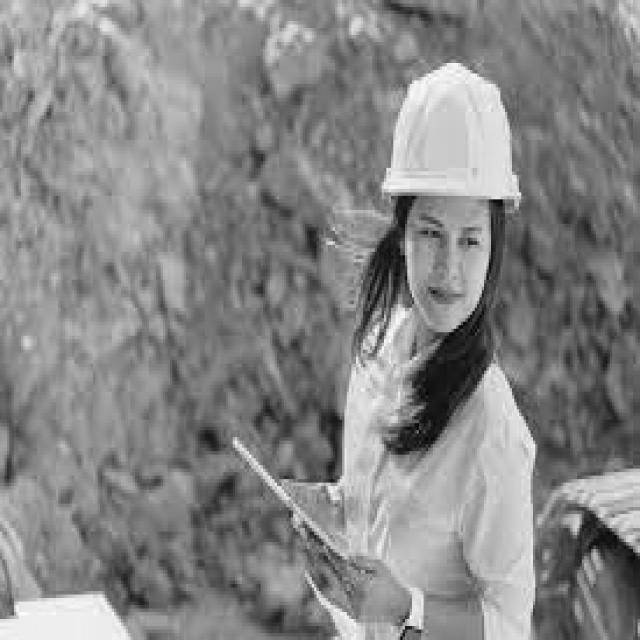construction helmet: (382, 63, 521, 206)
